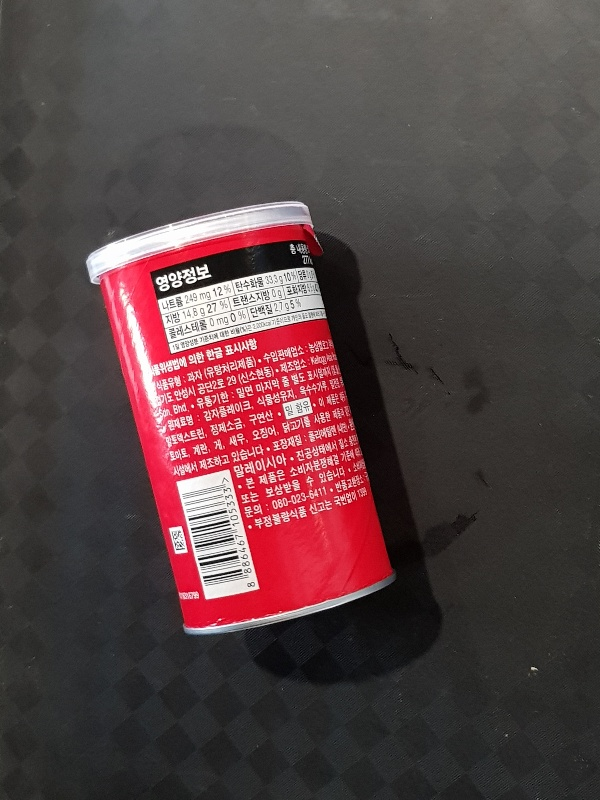Pringles Original: (85, 200, 397, 636)
